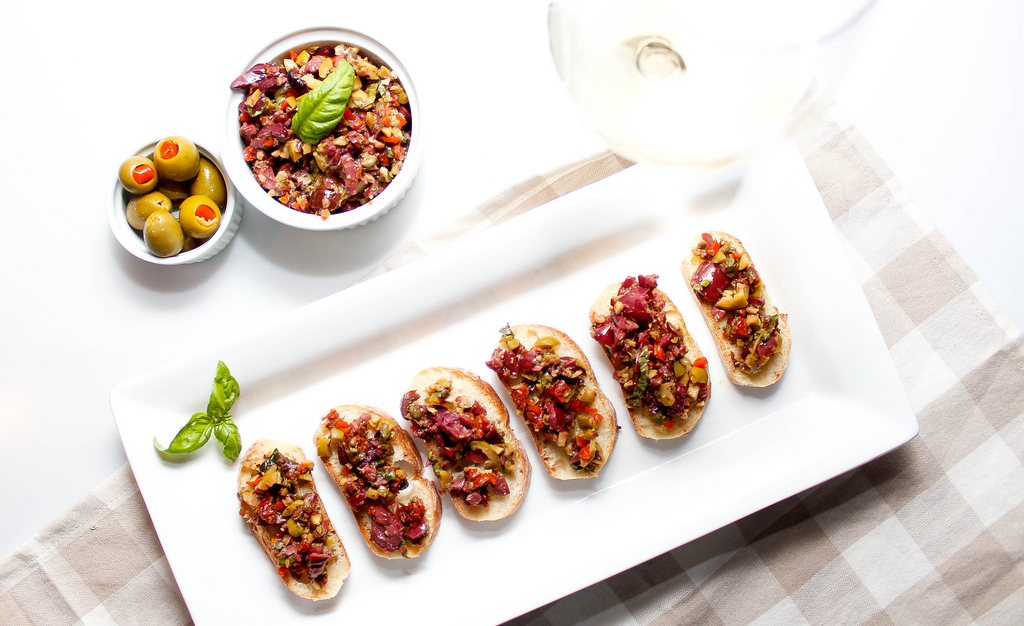slice of bread: (406, 374, 532, 538)
